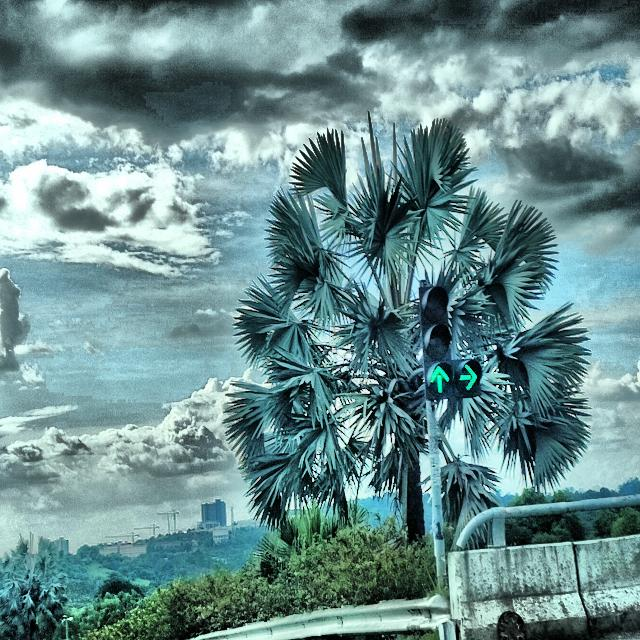green: (418, 288, 452, 399), (452, 288, 482, 397)
